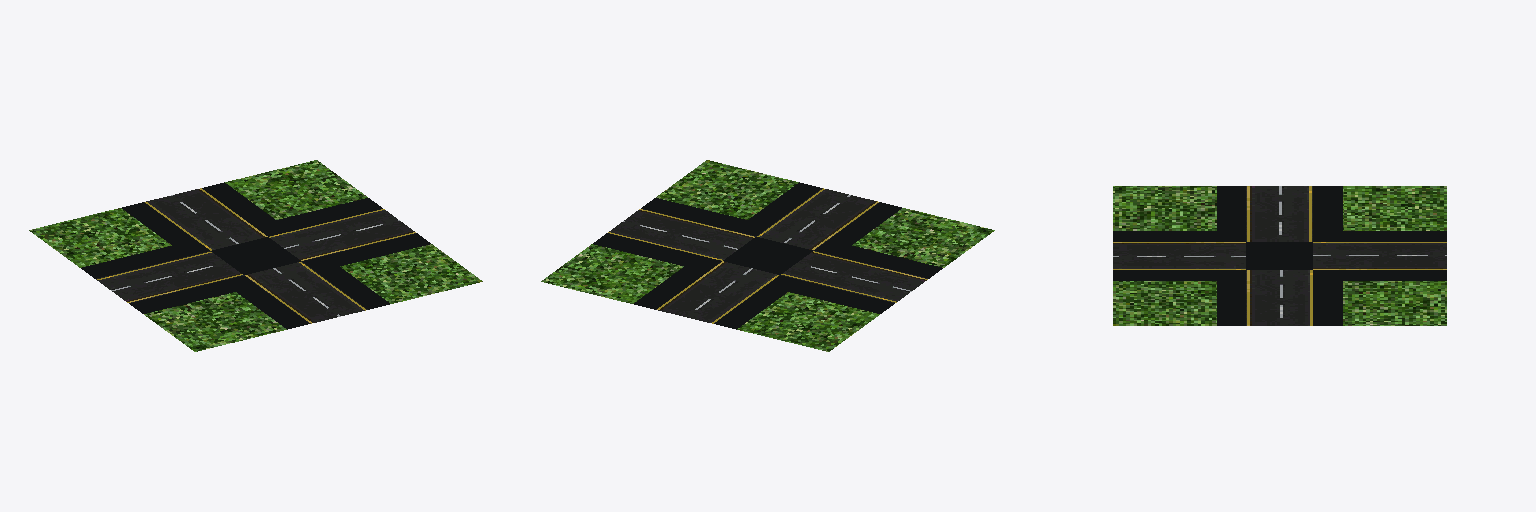
3 renders of one model, left to right at view 1: azimuth 30°, elevation 25°; view 2: azimuth 150°, elevation 25°; view 3: azimuth 270°, elevation 25°, orthographic.
Size of the model in its own units: 16 by 0 by 16.
2 materials, 1 textured.